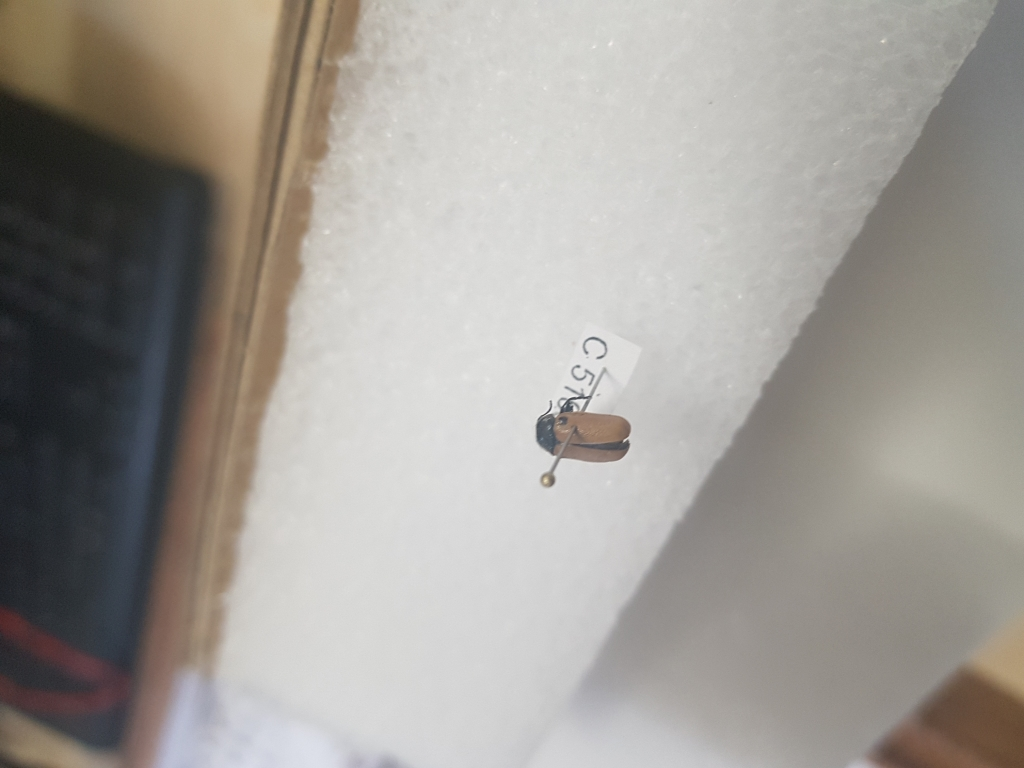Labidostomis_longimana: (532, 392, 642, 466)
